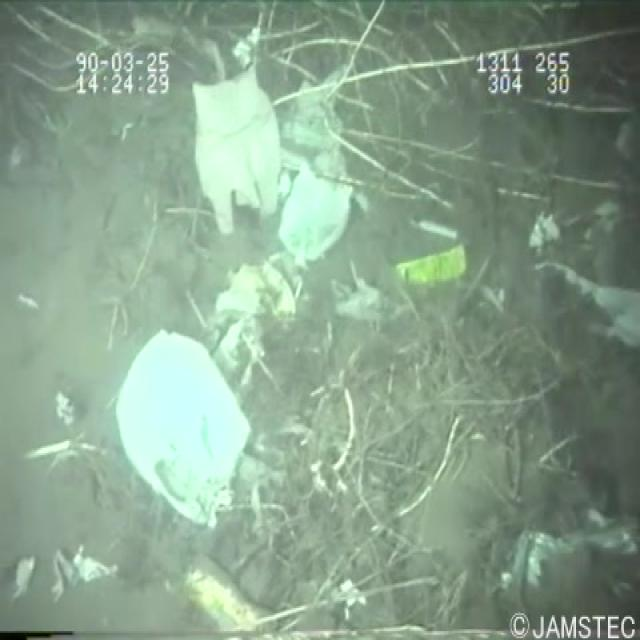plastic: (183, 59, 360, 286), (107, 316, 260, 537)
